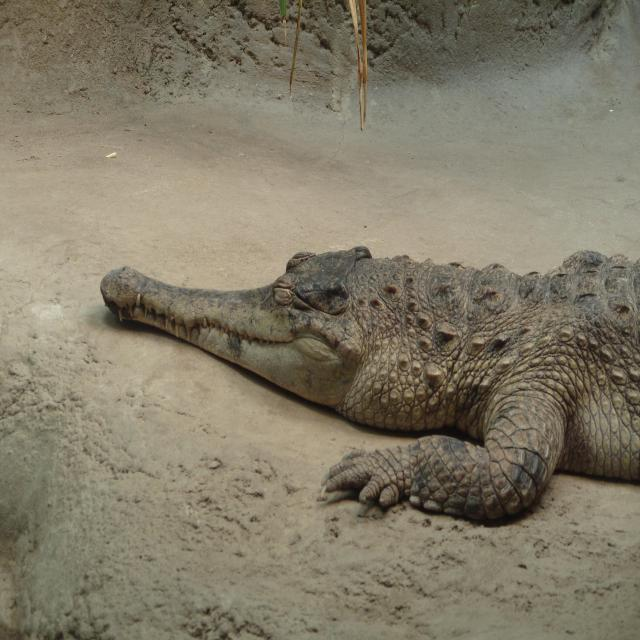crocodile: (98, 246, 639, 527)
